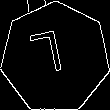L_S: (35, 30, 75, 85)
